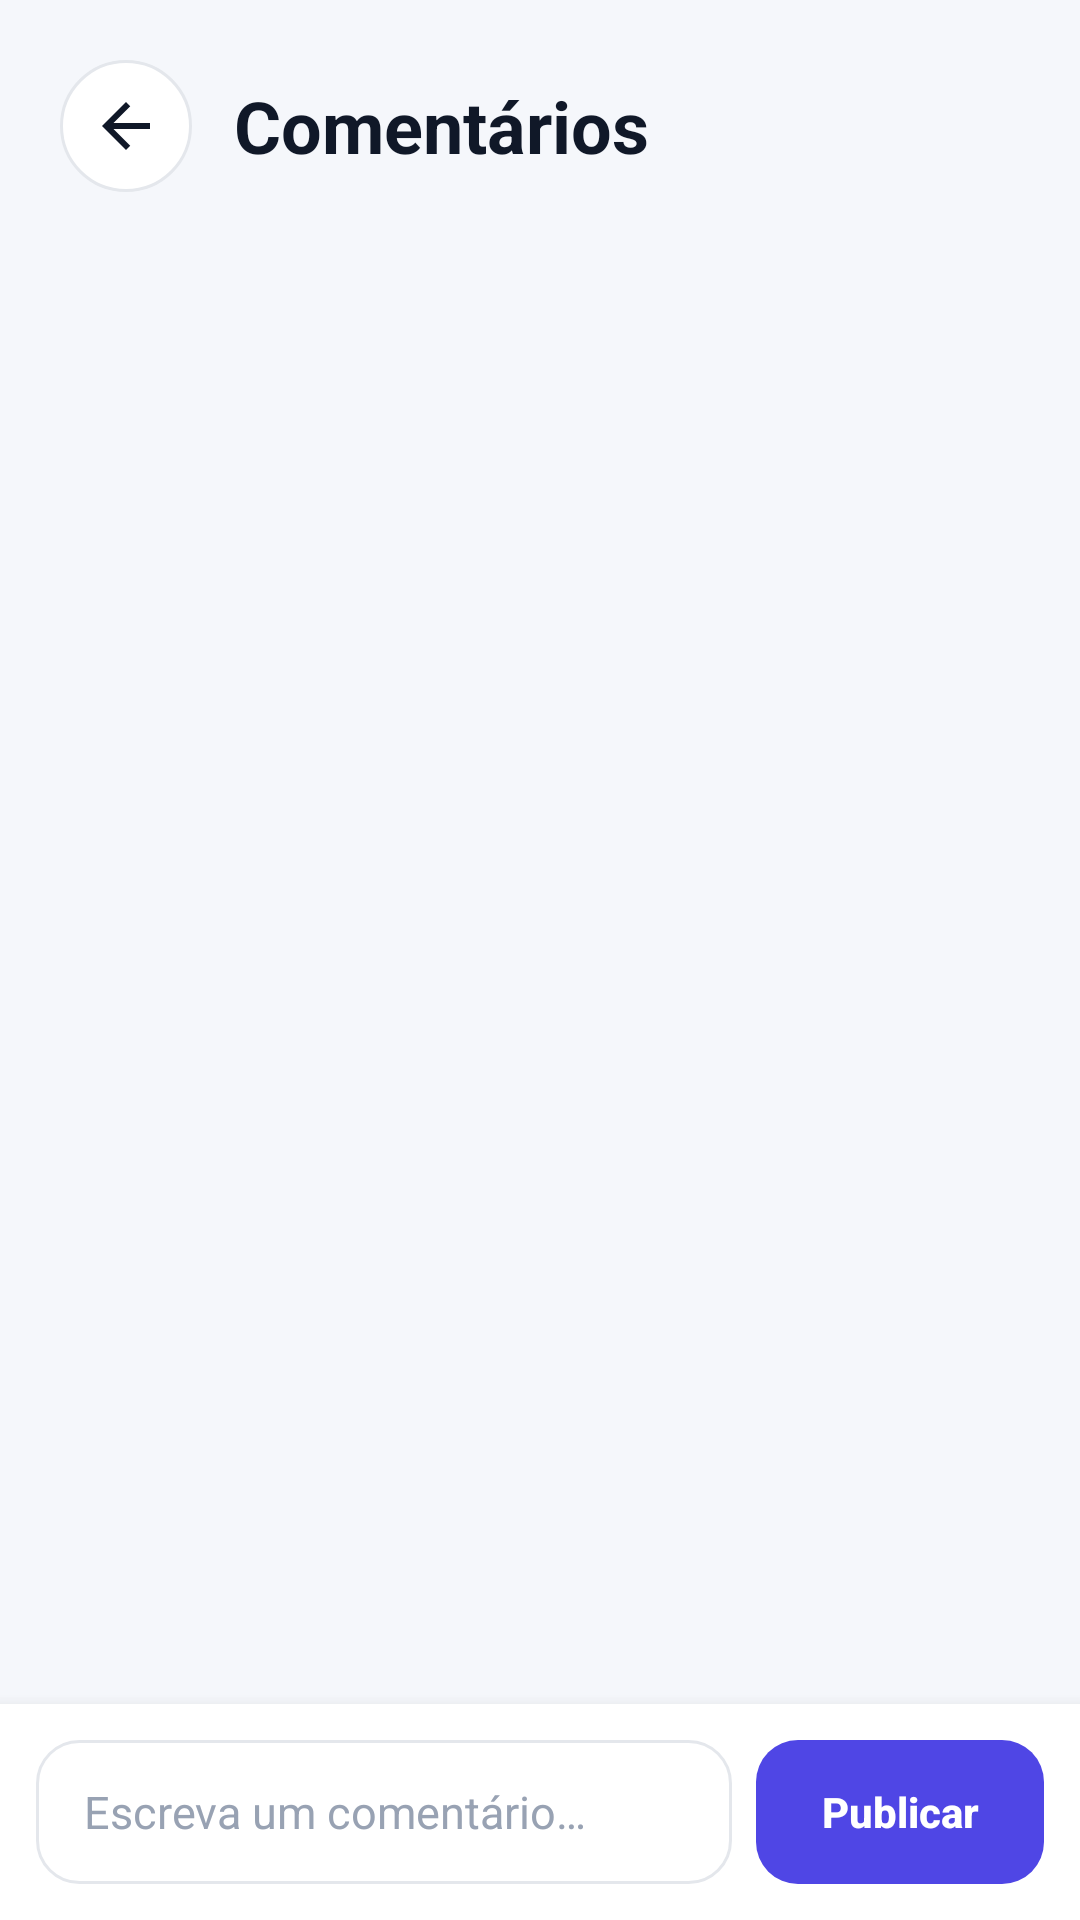

Where icons sit on this 1080 × 1920 app screen, as (x1, y1, x2, y2):
Voltar: (60, 60, 192, 192)
